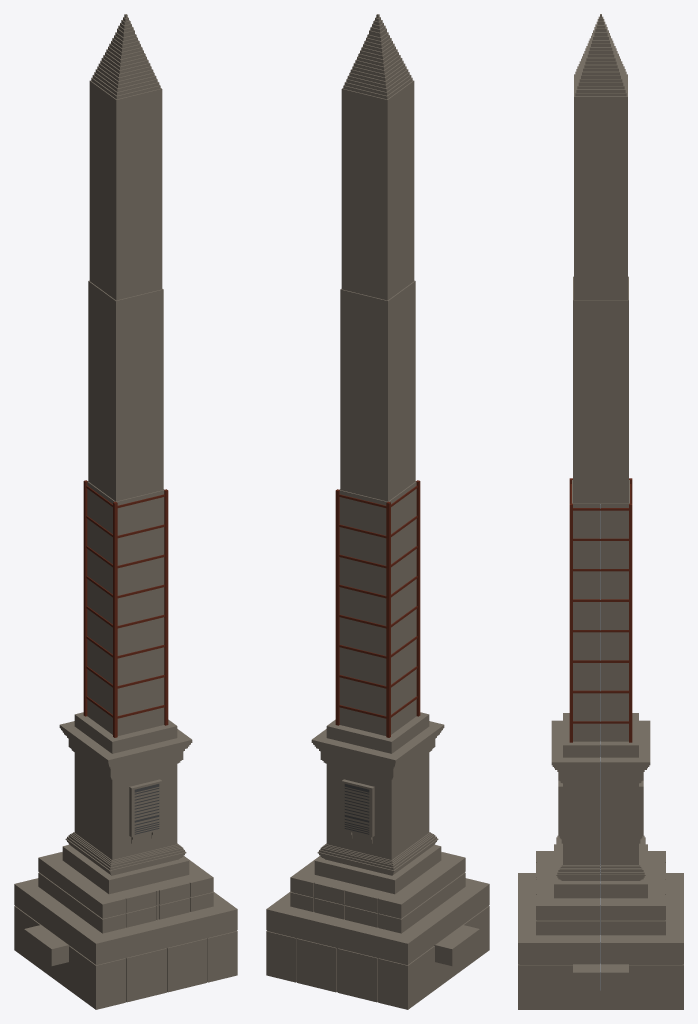
Rendered from asset.glb.
The picture shows the model from 3 angles, left to right: view 1: azimuth 30°, elevation 25°; view 2: azimuth 150°, elevation 25°; view 3: azimuth 270°, elevation 25°; orthographic projection.
Parts seen in each view (by area): view 1: Beacon-1, Beacon-2, Beacon-3, Beacon-0; view 2: Beacon-1, Beacon-2, Beacon-3, Beacon-0; view 3: Beacon-1, Beacon-2, Beacon-3, Beacon-0.
Boxes of the visible parts, left/top/right/bottom form: Beacon-1: left=14, top=721, right=237, bottom=1009; Beacon-2: left=74, top=480, right=177, bottom=753; Beacon-3: left=89, top=14, right=162, bottom=285; Beacon-0: left=88, top=266, right=163, bottom=501; Beacon-1: left=266, top=721, right=489, bottom=1009; Beacon-2: left=326, top=480, right=429, bottom=753; Beacon-3: left=341, top=14, right=414, bottom=285; Beacon-0: left=340, top=266, right=415, bottom=501; Beacon-1: left=518, top=720, right=683, bottom=1009; Beacon-2: left=563, top=478, right=638, bottom=762; Beacon-3: left=574, top=14, right=627, bottom=284; Beacon-0: left=573, top=276, right=628, bottom=503.
Bounding box in the file's own units: 18.5 × 94.6 × 14.8.
Materials: 4 (4 with a texture image).
